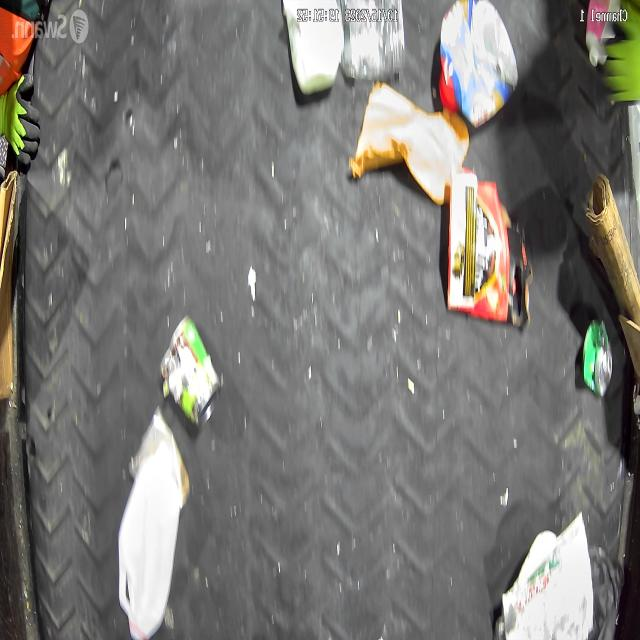can: (157, 314, 218, 426), (576, 319, 616, 404)
milk_jug: (110, 440, 184, 640), (278, 1, 342, 100)
non_white_jug: (434, 0, 522, 125)
